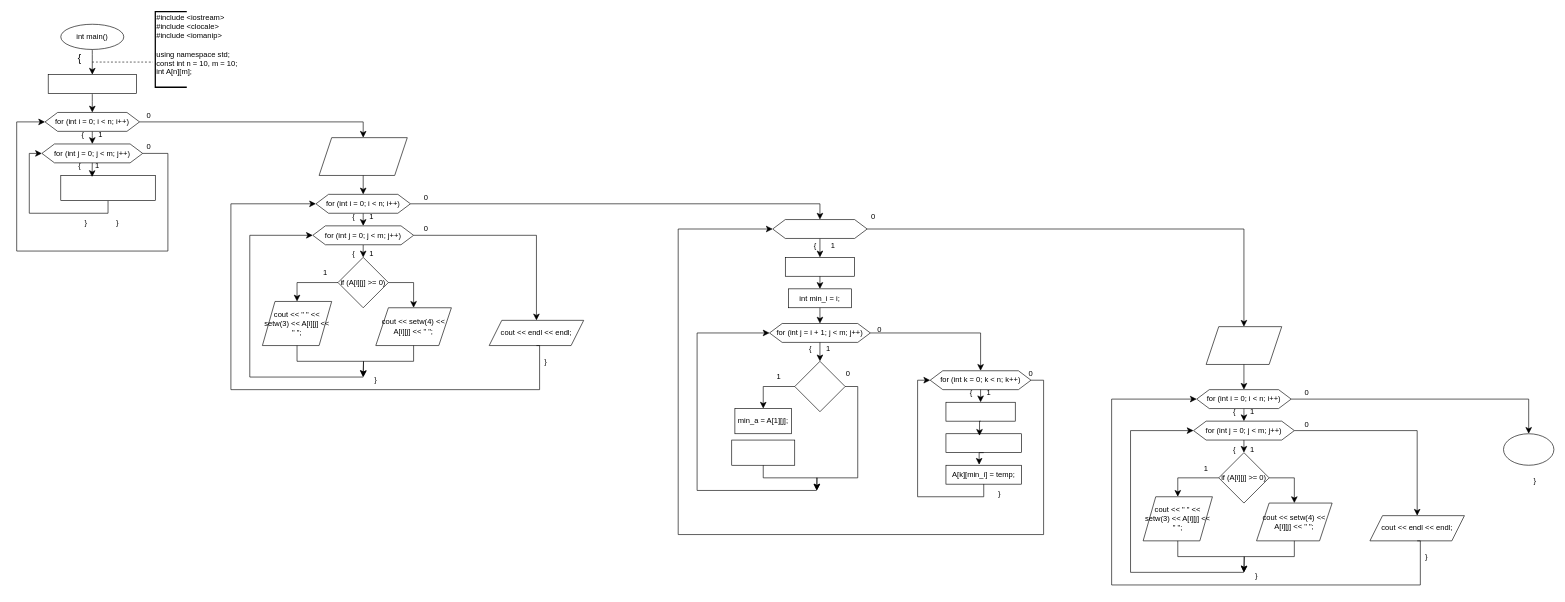
This 1565x602 diagram has some shape labels left out. Each missing label, with the centre of its shape:
A[i][j] = rand() % 200 - 100;: pixel 107 188
A[k][i] = A[k][min_i];: pixel 983 443
cout << "Исходный массив:" << endl;: pixel 362 156
cout << "Итоговый массив:" << endl;: pixel 1244 345
for (int i = 0; i < m - 1; i++): pixel 819 228
if (A[1][j] < min_a): pixel 819 386
int min_a = A[1][i];: pixel 820 266
int temp = A[k][i];: pixel 980 411
min_i = j;: pixel 763 452
return 0;: pixel 1528 449
setlocale(LC_ALL, "ru");: pixel 92 84
